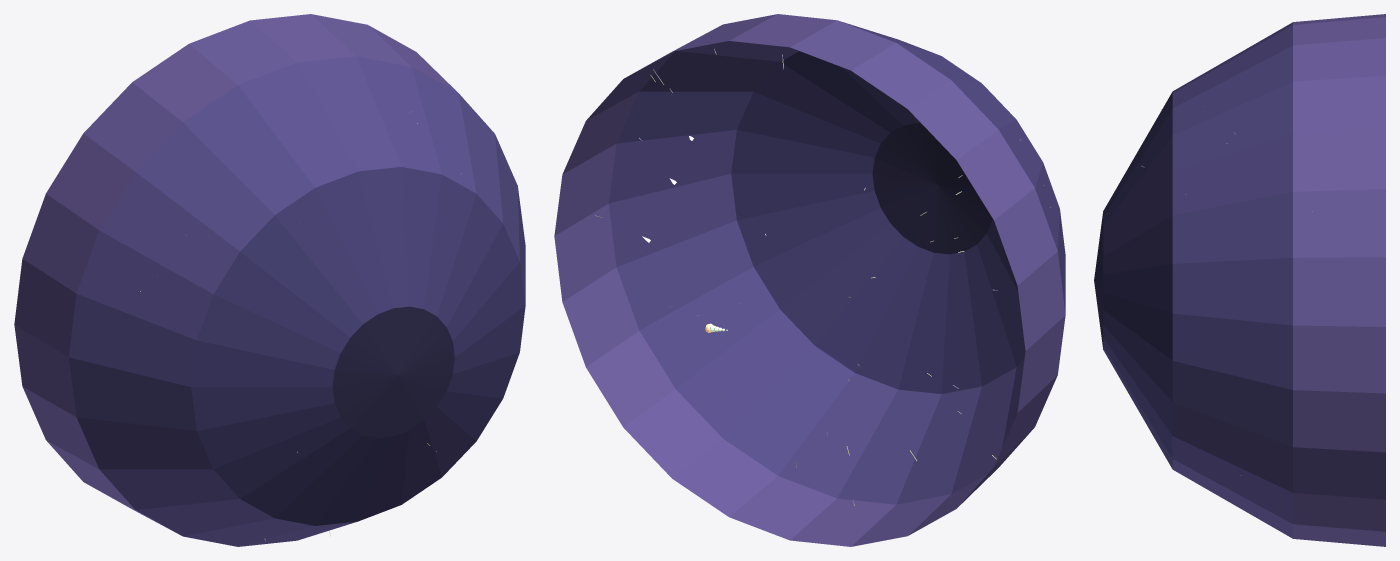
Rendered from sky_warp_night.glb.
The picture shows the model from 3 angles, left to right: view 1: azimuth 30°, elevation 25°; view 2: azimuth 150°, elevation 25°; view 3: azimuth 270°, elevation 25°; orthographic projection.
Parts seen in each view (by area): view 1: skyband1, skyband2, skyband0, skyband3; view 2: skyband1, skyband0, skyband2, skyband3; view 3: skyband1, skyband0, skyband2, skyband3.
Part boxes in pixels (bbox=[...]): skyband1: bbox=[68, 56, 525, 546]; skyband2: bbox=[191, 167, 525, 525]; skyband0: bbox=[14, 14, 457, 534]; skyband3: bbox=[332, 306, 454, 437]; skyband1: bbox=[608, 21, 1065, 504]; skyband0: bbox=[554, 14, 1065, 546]; skyband2: bbox=[731, 51, 1025, 393]; skyband3: bbox=[872, 123, 992, 254]; skyband1: bbox=[1172, 22, 1292, 538]; skyband0: bbox=[1293, 14, 1385, 546]; skyband2: bbox=[1103, 92, 1172, 468]; skyband3: bbox=[1094, 211, 1103, 349].
Size of the model in its own units: 179 by 179 by 97.84.
